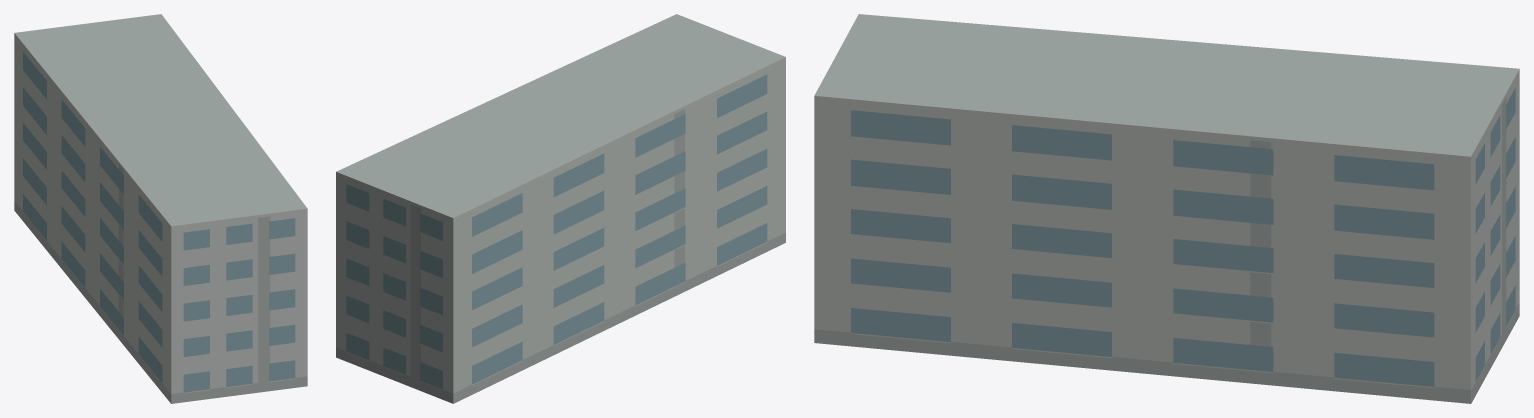
File: survey-upis-32670702.glb
3 views of the same model, side by side, from view 1: azimuth 30°, elevation 25°; view 2: azimuth 150°, elevation 25°; view 3: azimuth 270°, elevation 25° (orthographic). The views are drawn at different scales.
Parts seen in each view (by area): view 1: survey-upis-32670702.tmp; view 2: survey-upis-32670702.tmp; view 3: survey-upis-32670702.tmp.
Part boxes in pixels (left/top/right/bottom): survey-upis-32670702.tmp: left=14, top=14, right=307, bottom=403; survey-upis-32670702.tmp: left=336, top=14, right=785, bottom=403; survey-upis-32670702.tmp: left=814, top=14, right=1519, bottom=403.
Bounding box in the file's own units: 18.9 × 15.25 × 39.45.
